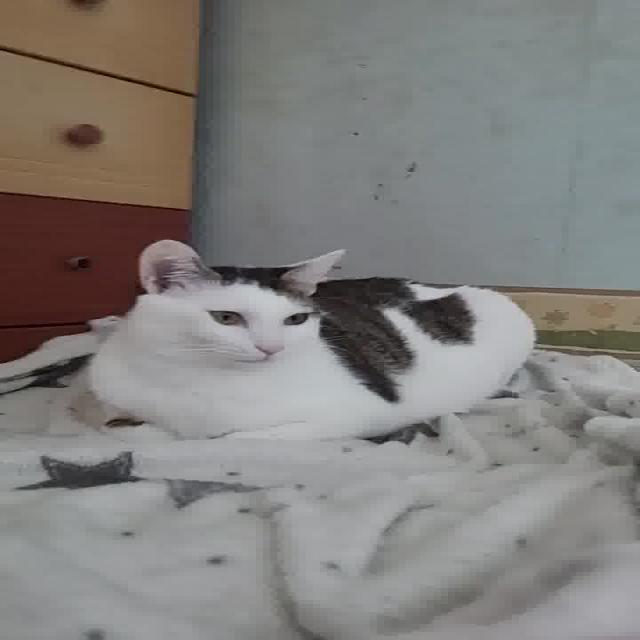cat: (80, 234, 534, 452)
